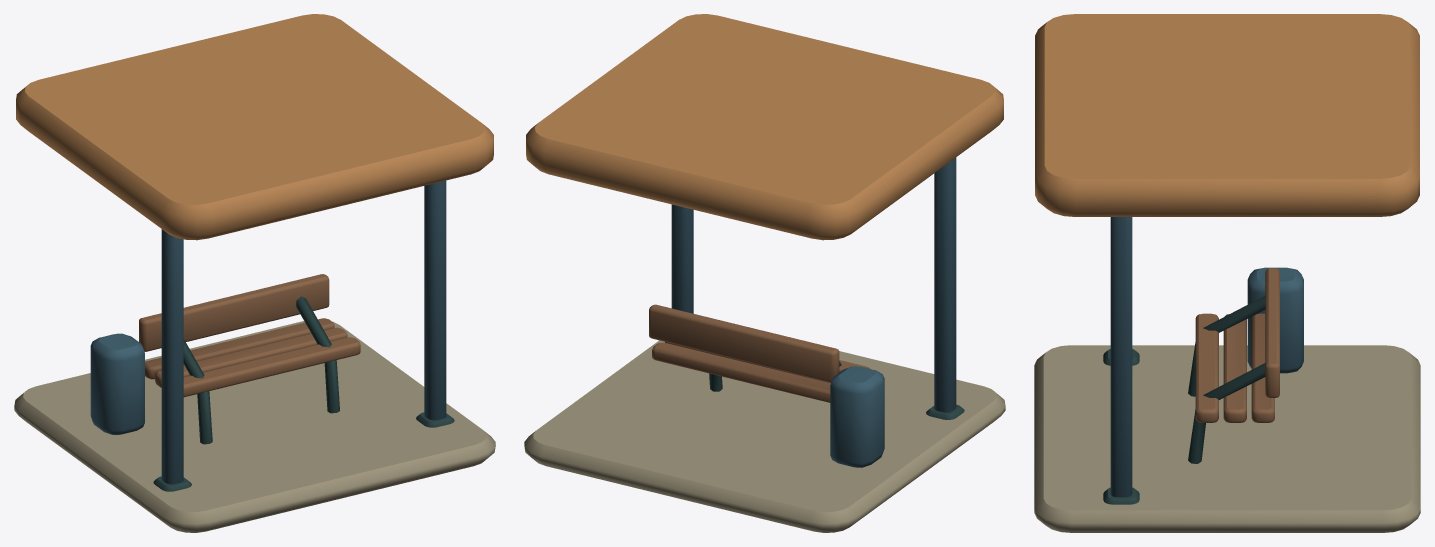
File: annex_truck_park_3.glb
The picture shows the model from 3 angles, left to right: view 1: azimuth 30°, elevation 25°; view 2: azimuth 150°, elevation 25°; view 3: azimuth 270°, elevation 25°; orthographic projection. The views are drawn at different scales.
Parts seen in each view (by area): view 1: AnnexTruckPark3; view 2: AnnexTruckPark3; view 3: AnnexTruckPark3.
Boxes of the visible parts, box(x1,y1,x2,y2) form: AnnexTruckPark3: box(14, 14, 495, 532); AnnexTruckPark3: box(524, 14, 1005, 532); AnnexTruckPark3: box(1034, 14, 1420, 532).
Size of the model in its own units: 2.63 by 2.51 by 2.48.
